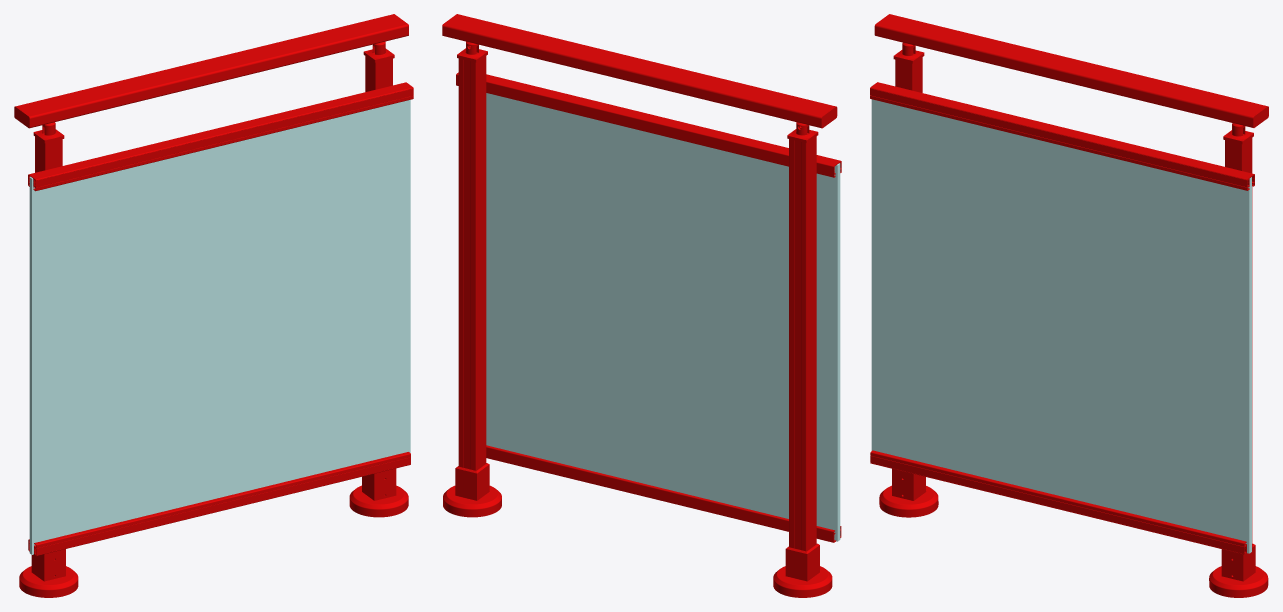
The model's file is middle.glb.
The picture shows the model from 3 angles, left to right: view 1: azimuth 30°, elevation 25°; view 2: azimuth 150°, elevation 25°; view 3: azimuth 330°, elevation 25°; orthographic projection.
Parts seen in each view (by area): view 1: glass, leg; view 2: glass, leg; view 3: glass, leg.
Part boxes in pixels (x1,y1,x2,y2): glass: (29, 100, 410, 554); leg: (14, 14, 413, 597); glass: (486, 93, 840, 541); leg: (442, 14, 841, 597); glass: (871, 84, 1251, 553); leg: (870, 14, 1268, 597).
Size of the model in its own units: 2.32 by 2.78 by 0.3102.
